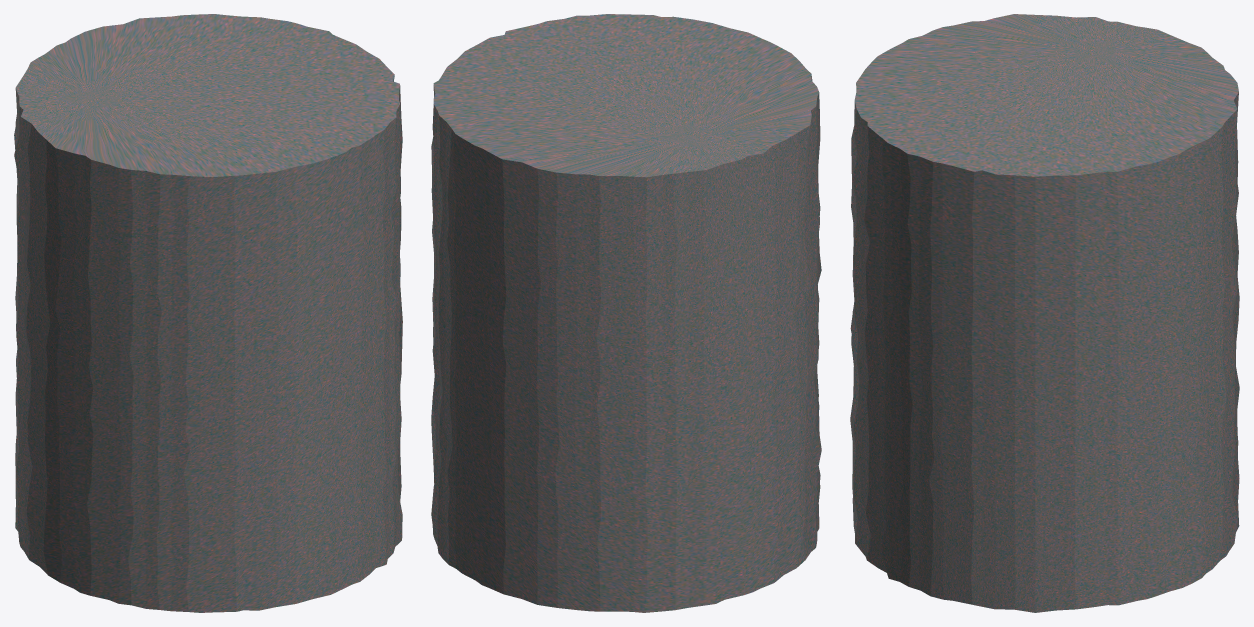
File: barrel_16.dae
The picture shows the model from 3 angles, left to right: view 1: azimuth 30°, elevation 25°; view 2: azimuth 150°, elevation 25°; view 3: azimuth 270°, elevation 25°; orthographic projection.
Visible parts, largest first — view 1: Cylinder; view 2: Cylinder; view 3: Cylinder.
Part boxes in pixels (left/top/right/bottom): Cylinder: left=14, top=14, right=402, bottom=612; Cylinder: left=431, top=14, right=821, bottom=612; Cylinder: left=850, top=14, right=1239, bottom=612.
Size of the model in its own units: 0.8164 by 0.813 by 1.
Materials: 1 (1 with a texture image).
